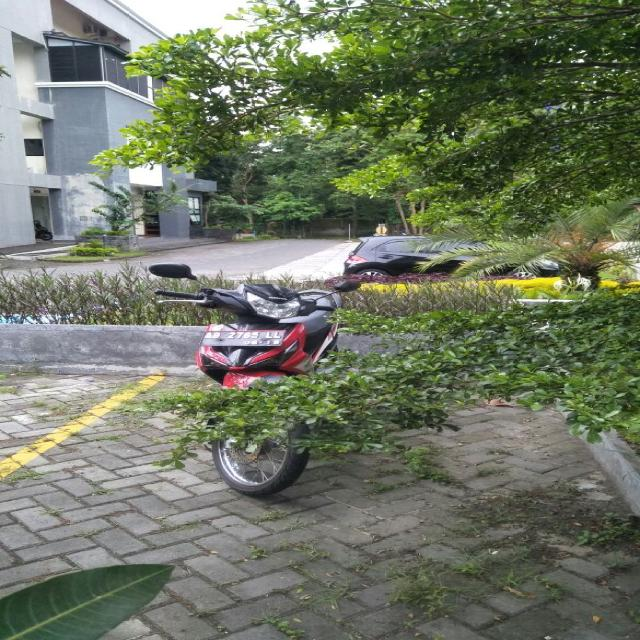plate: (199, 329, 286, 344)
